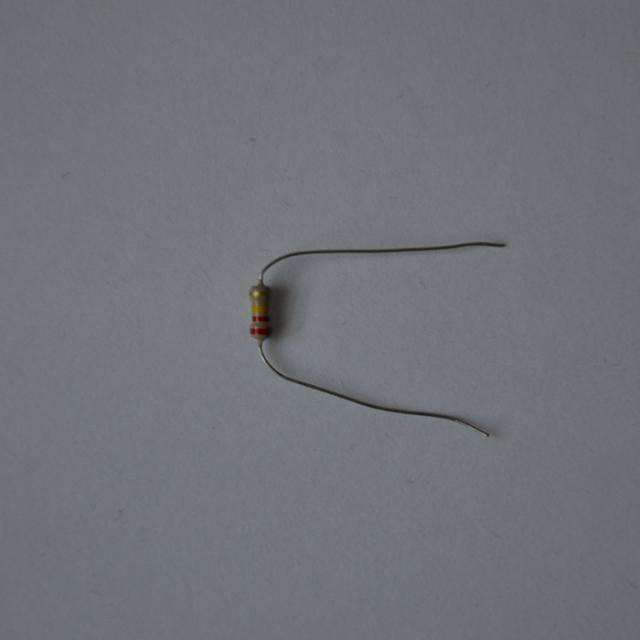gold: (250, 290, 268, 295)
red: (250, 328, 270, 335), (251, 315, 269, 322)
resistor: (243, 280, 281, 348)
yellow: (251, 304, 268, 309)
